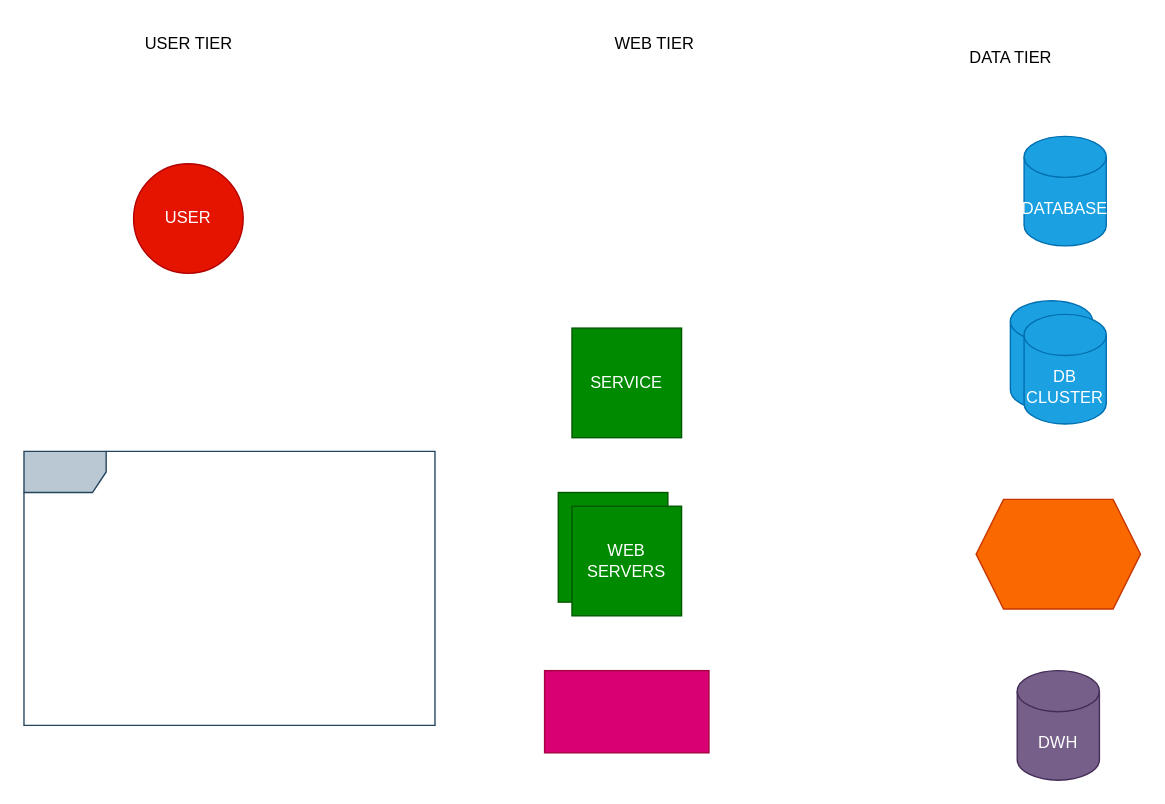
Some shapes in this 1165 by 804 pixel diagram are drawn without their labels. Here are the shapes that lost their labels. From the top down, the centre of each, then its label:
point (1058, 553): IN-MEMORY CACHE
point (229, 587): FRAME
point (626, 711): LOAD BALANCER
